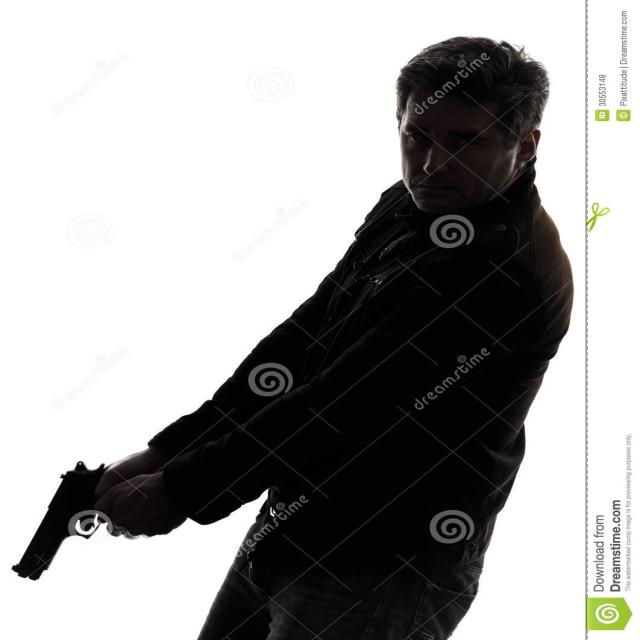HandGun: (11, 461, 105, 584)
